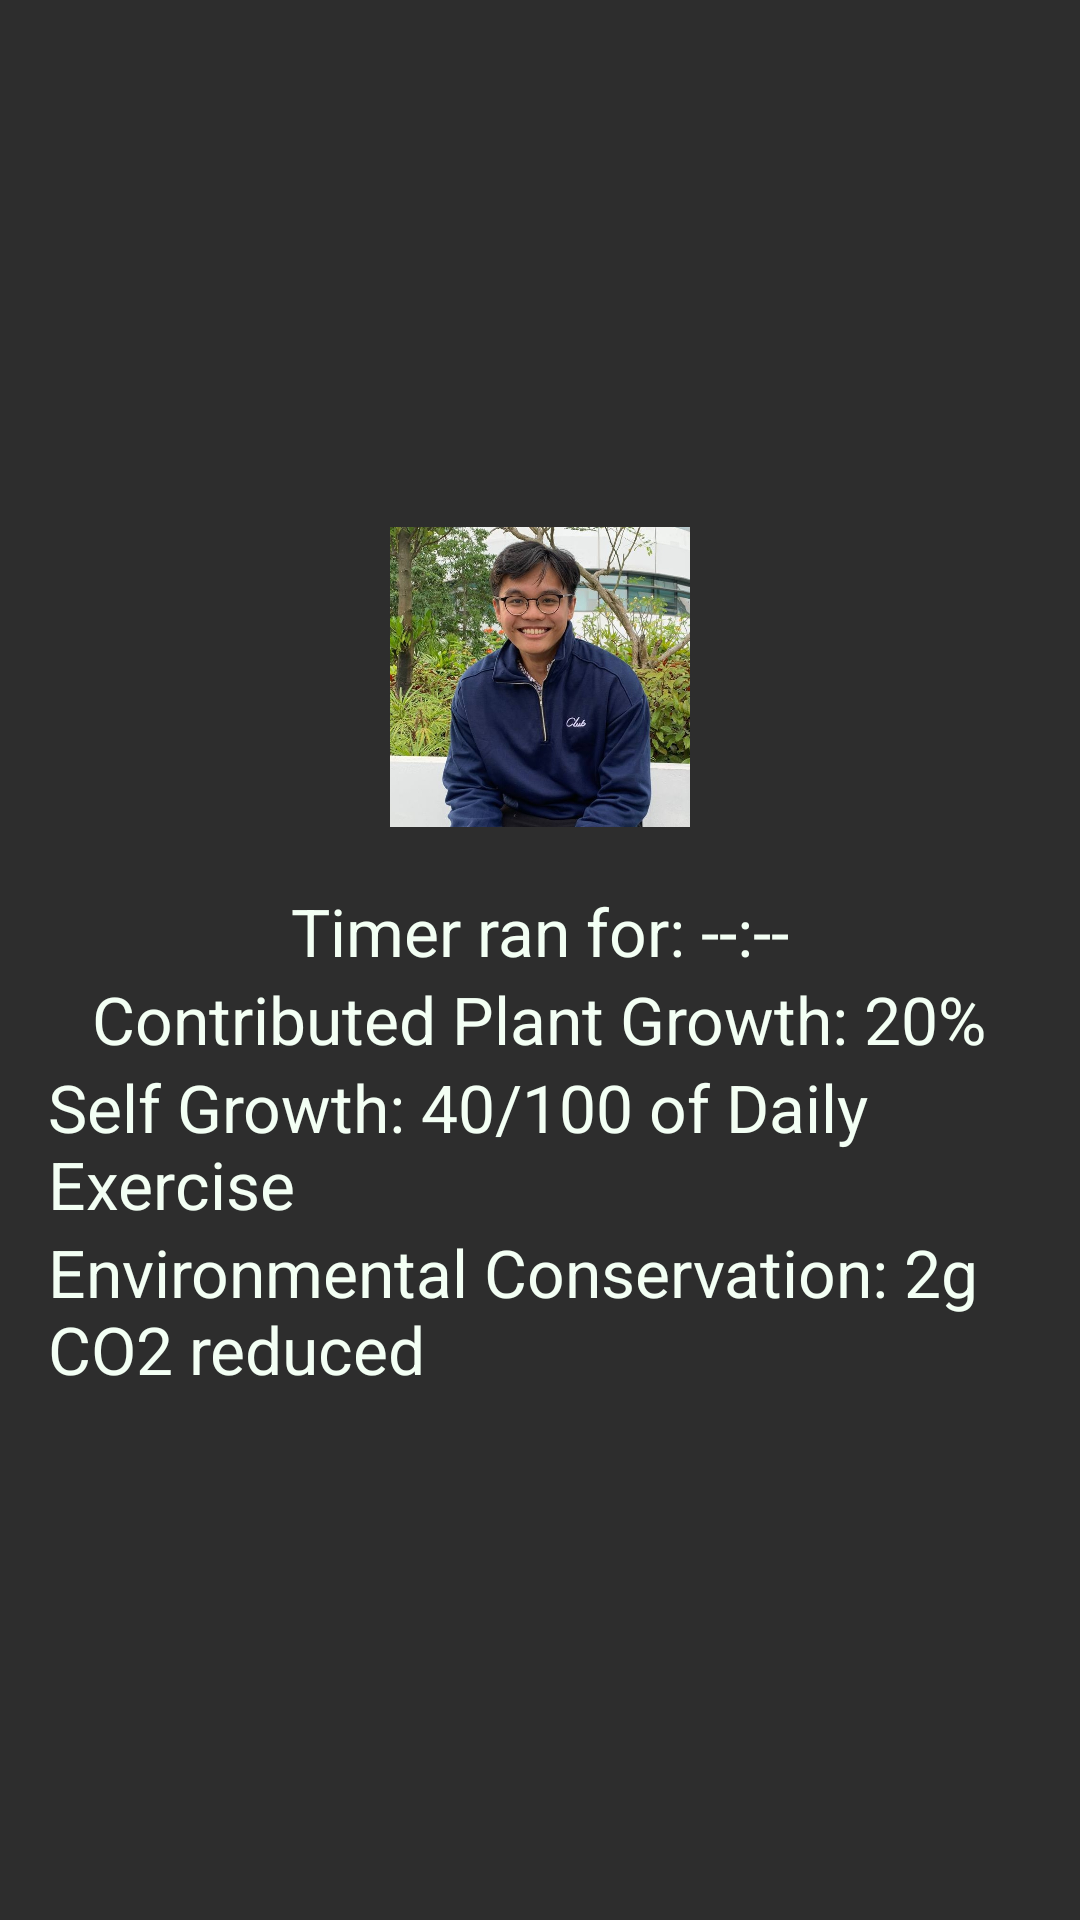

Screen size 1080 × 1920. Icon name, then its center in pixels as (x,y):
profilepic: (540,677)
